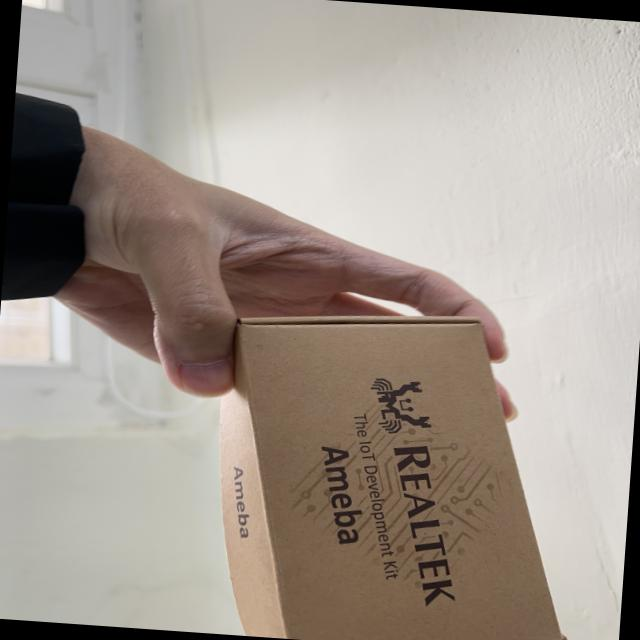box: (145, 265, 640, 640)
